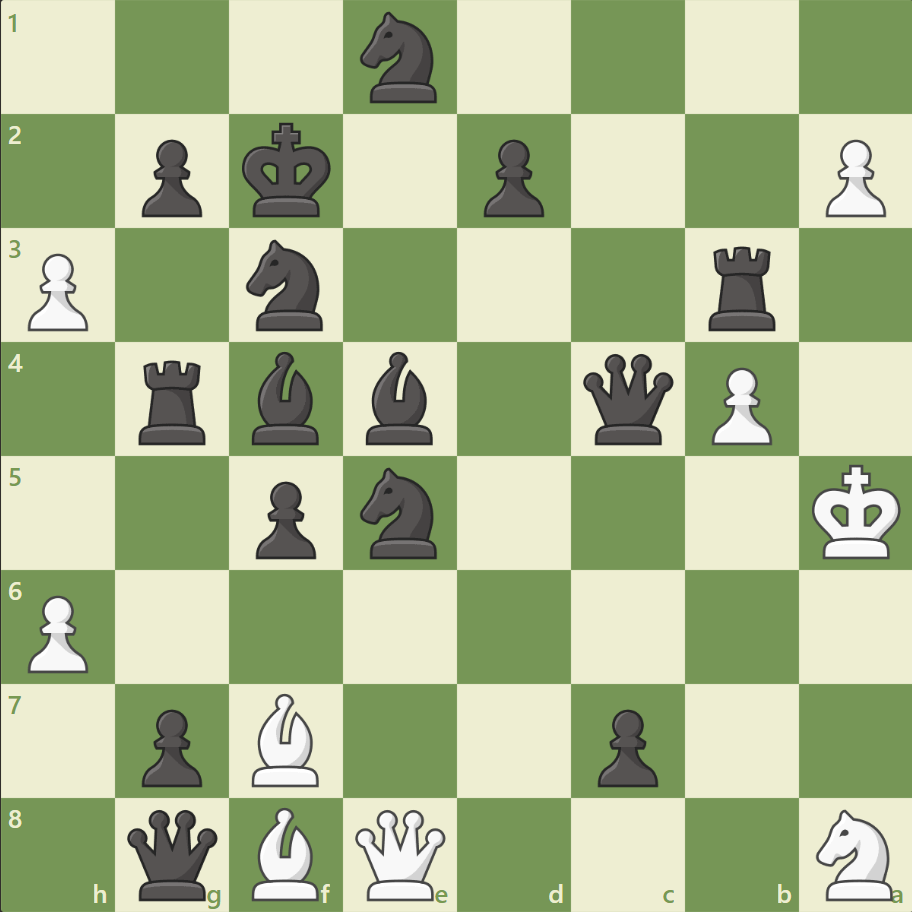B: (244, 801, 328, 904), (244, 687, 328, 790)
K: (806, 458, 906, 566)
N: (806, 802, 903, 904)
P: (20, 586, 95, 677), (701, 359, 776, 450), (20, 246, 95, 337), (815, 132, 889, 223)
Q: (351, 804, 450, 903)
b: (358, 347, 442, 449), (244, 347, 328, 449)
k: (238, 117, 338, 225)
n: (351, 461, 449, 564), (351, 7, 449, 110), (238, 234, 335, 337)
p: (133, 700, 208, 791), (247, 473, 322, 564), (474, 132, 549, 223), (133, 132, 208, 223), (588, 700, 662, 791)
q: (578, 349, 677, 449), (124, 804, 223, 903)
r: (700, 239, 783, 336), (133, 352, 215, 449)
